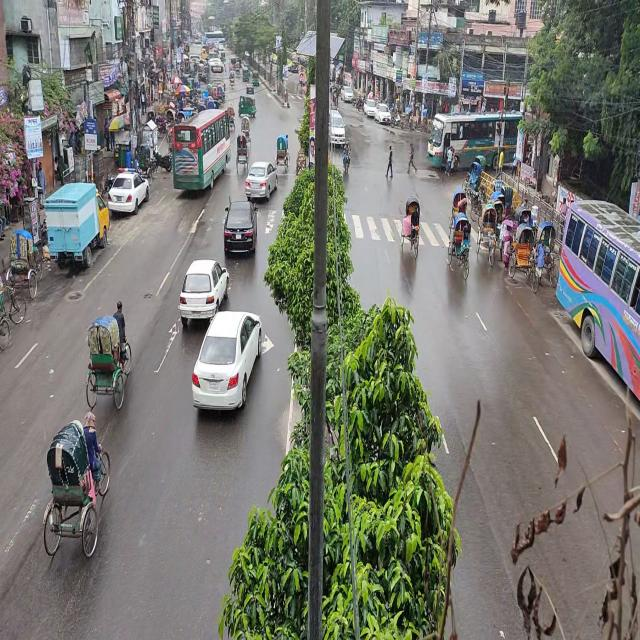black: (223, 201, 257, 255)
silver: (244, 163, 278, 201)
white: (192, 310, 262, 416), (180, 260, 228, 325), (110, 168, 150, 217)
